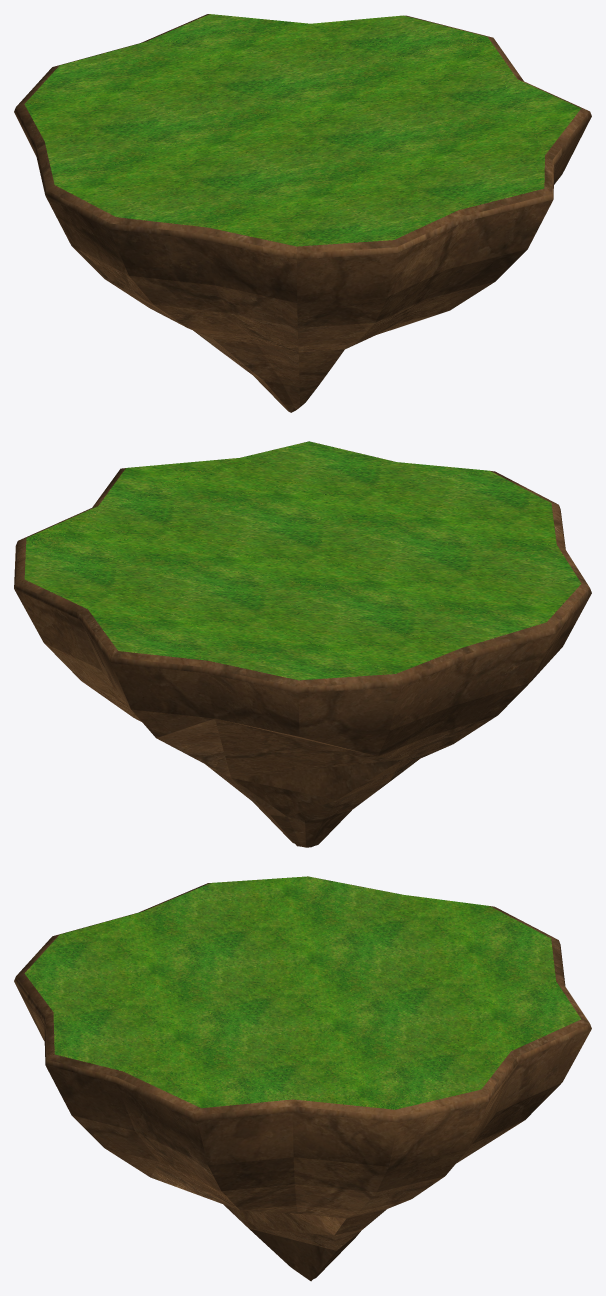
Rendered from platform2 (tiling 2).fbx.
The picture shows the model from 3 angles, top to bottom: view 1: azimuth 30°, elevation 25°; view 2: azimuth 150°, elevation 25°; view 3: azimuth 270°, elevation 25°; orthographic projection.
Parts seen in each view (by area): view 1: erba1, ground1; view 2: erba1, ground1; view 3: erba1, ground1.
Boxes of the visible parts, x1,y1,x2,y2 form: erba1: [24, 14, 580, 246]; ground1: [14, 14, 591, 412]; erba1: [24, 441, 581, 680]; ground1: [14, 443, 591, 847]; erba1: [24, 876, 580, 1109]; ground1: [14, 876, 591, 1281].
Size of the model in its own units: 1709 by 927 by 1725.
Materials: 2 (2 with a texture image).
